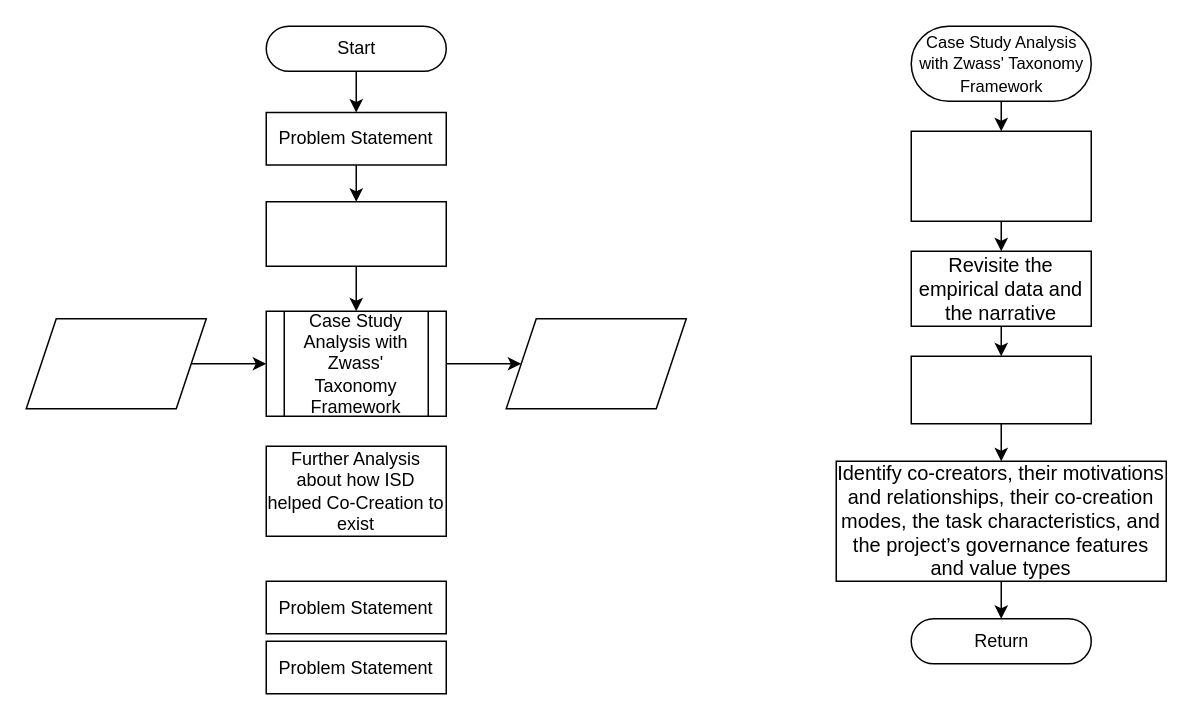
Image size: 1193x720. Some labels were removed from this diagram. The centre of each missing label's shape, as x and y in pixels:
"Actors in the case" goes at [115,363].
"Case's Taxonomy Framework" goes at [595,363].
"Map the empirical data to the framework" goes at [1000,389].
"Producing a timeline for research period and case narrative" goes at [1000,175].
"Searching for Case Study" goes at [355,233].
